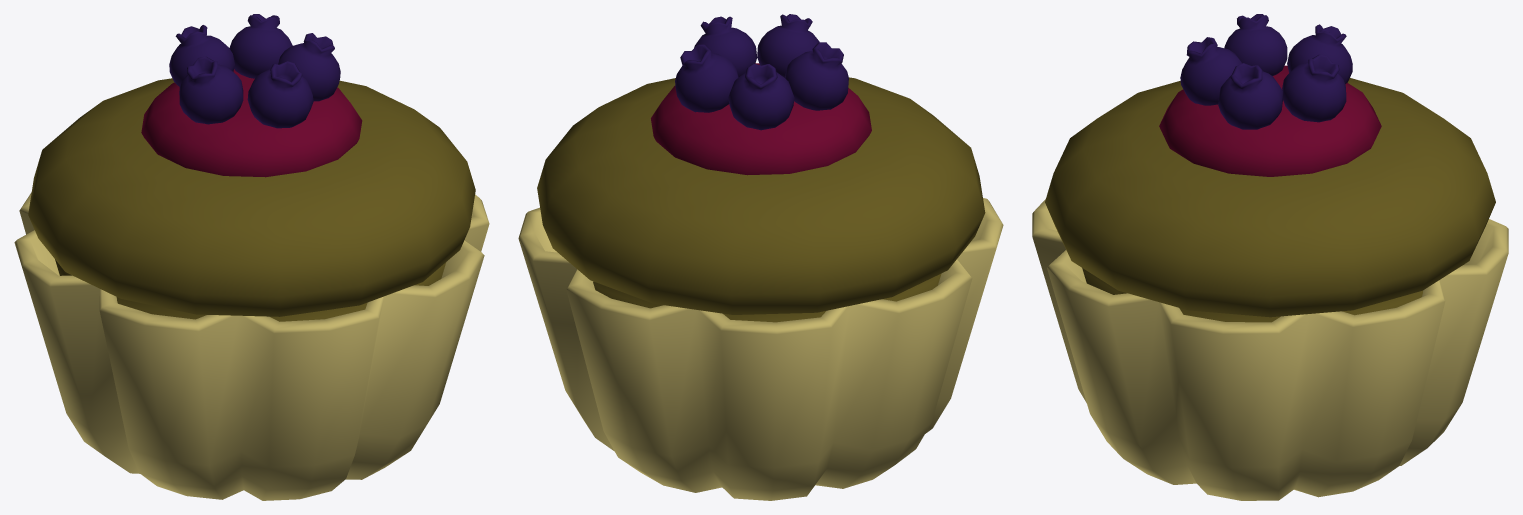
File: Muffin_2.FBX
The picture shows the model from 3 angles, left to right: view 1: azimuth 30°, elevation 25°; view 2: azimuth 150°, elevation 25°; view 3: azimuth 270°, elevation 25°; orthographic projection.
Parts seen in each view (by area): view 1: Muffin_2; view 2: Muffin_2; view 3: Muffin_2.
Boxes of the visible parts, box(x1,y1,x2,y2) form: Muffin_2: box(14, 14, 489, 500); Muffin_2: box(518, 14, 1003, 500); Muffin_2: box(1032, 14, 1508, 500).
Size of the model in its own units: 1005 by 1005 by 950.
